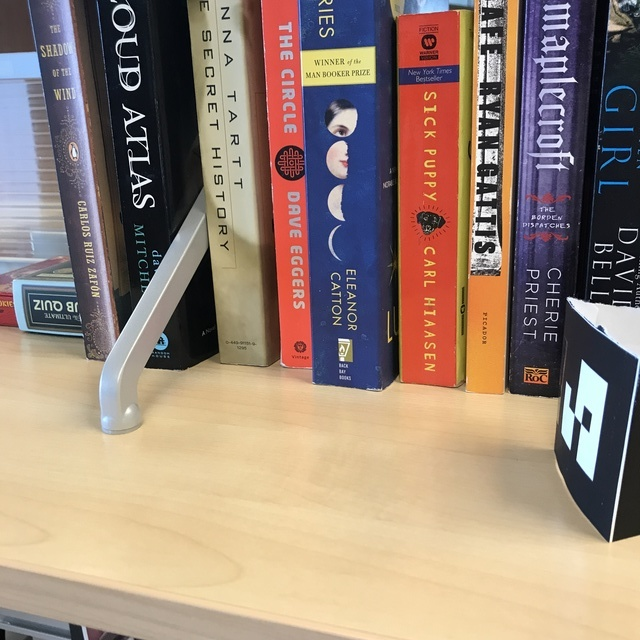ARTag: (552, 295, 640, 546)
